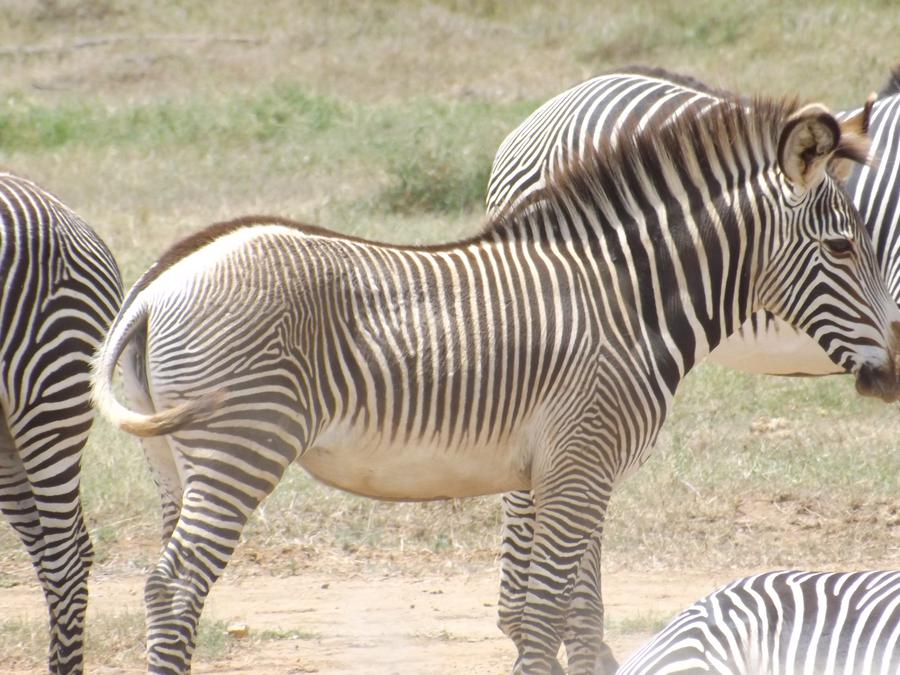zebra_grevys: (113, 213, 637, 498)
